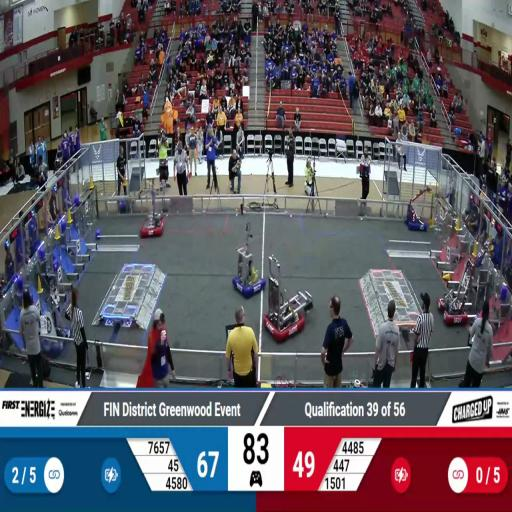robot: (436, 235, 491, 328), (263, 254, 316, 340), (34, 277, 72, 355), (231, 218, 266, 300), (138, 181, 168, 241), (404, 176, 436, 232)
